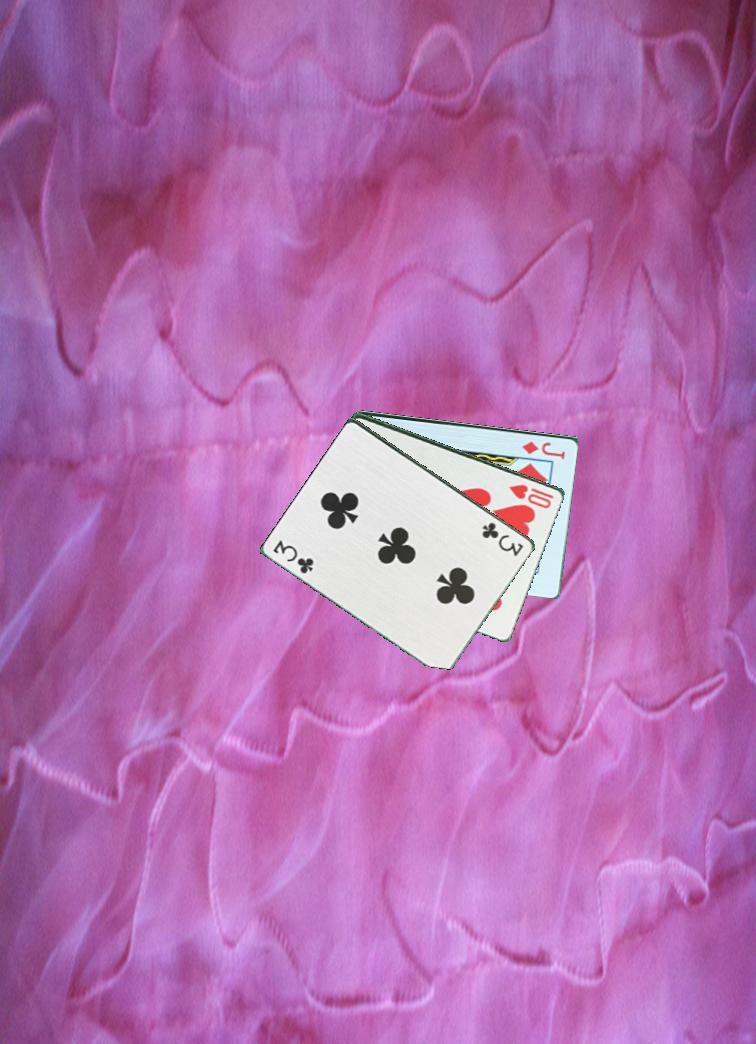3c: (472, 518, 527, 559), (270, 536, 323, 577)
jd: (519, 437, 569, 461)
th: (506, 480, 557, 511)
